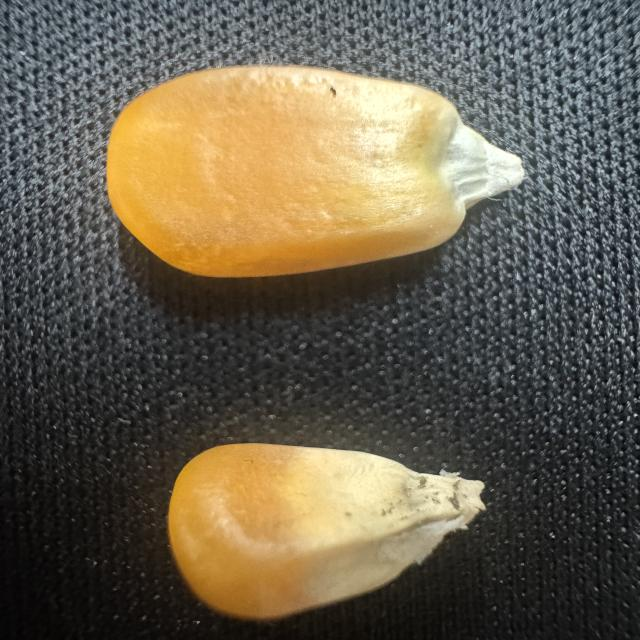Bad-Seed: (161, 427, 502, 620)
Good-Seed: (98, 58, 543, 291)
